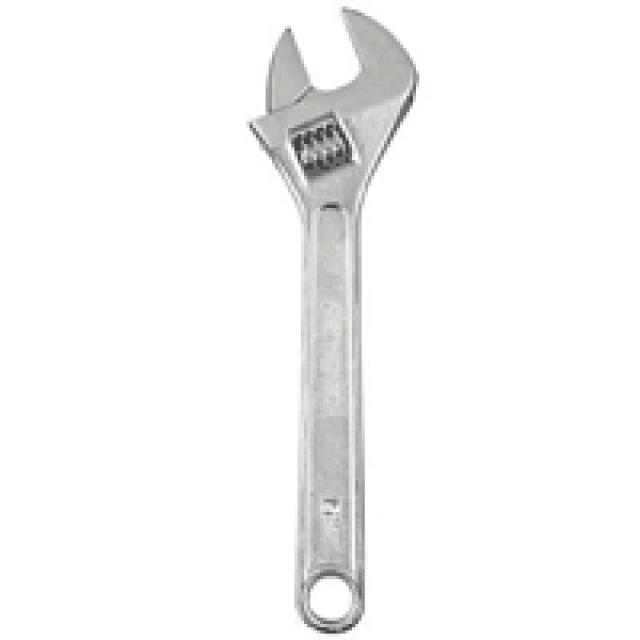wrench: (230, 9, 474, 578)
